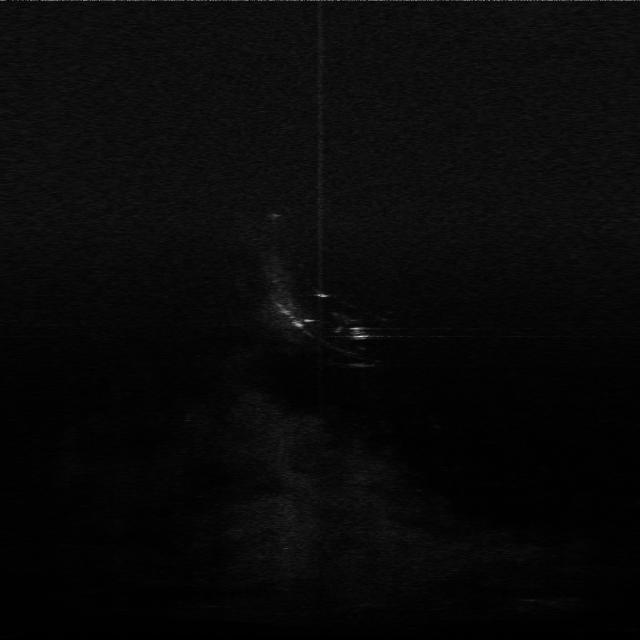rov: (343, 321, 371, 344)
